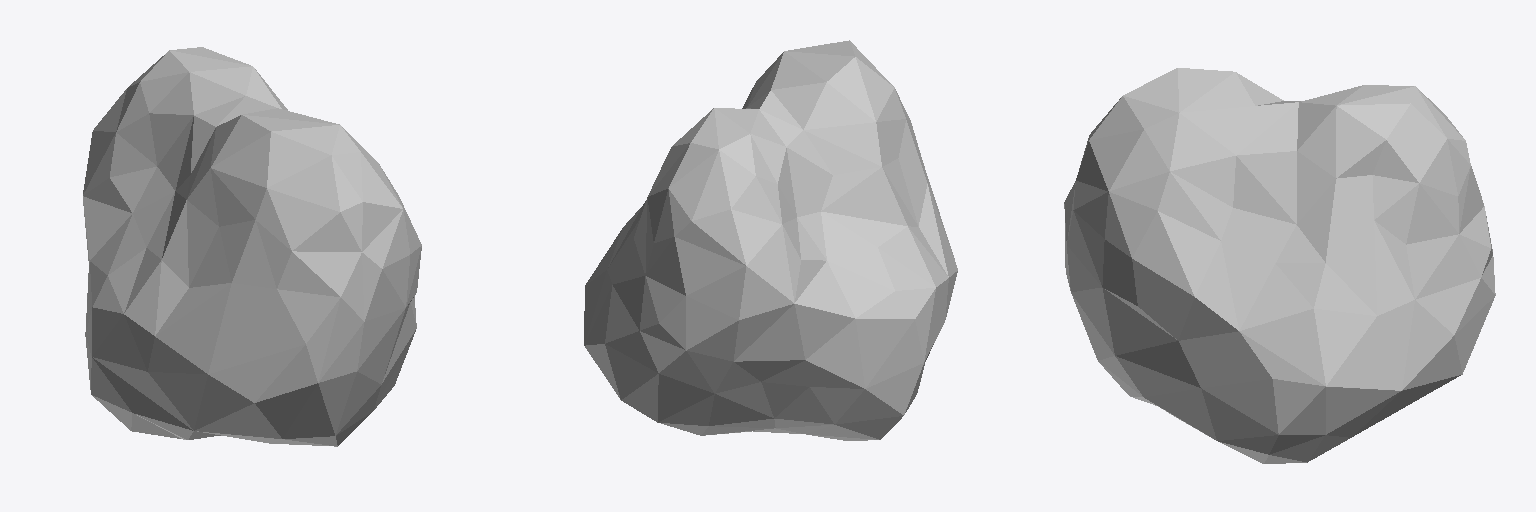
3 renders of one model, left to right at view 1: azimuth 30°, elevation 25°; view 2: azimuth 150°, elevation 25°; view 3: azimuth 270°, elevation 25°, orthographic.
Parts seen in each view (by area): view 1: rock; view 2: rock; view 3: rock.
Boxes of the visible parts, x1=… form: rock: x1=83, y1=47, x2=421, y2=446; rock: x1=584, y1=40, x2=957, y2=440; rock: x1=1064, y1=68, x2=1495, y2=463.
Bounding box in the file's own units: 0.9774 × 0.9951 × 1.14.